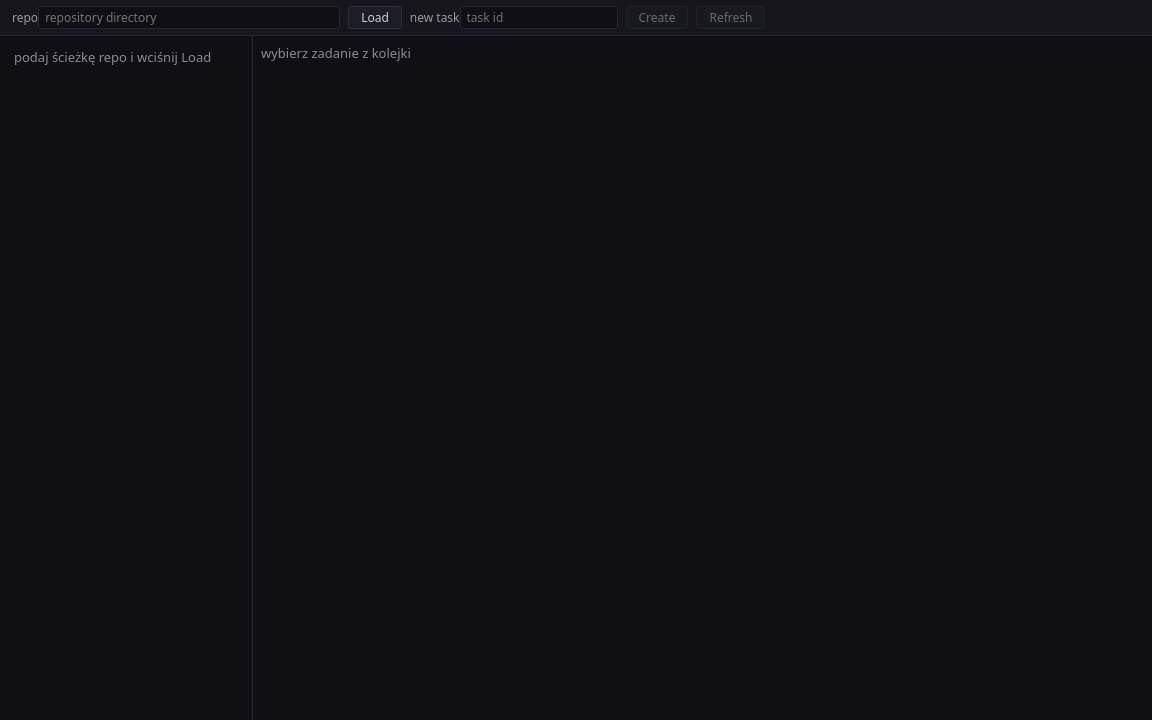
Test: ReviewPanel › no-checkpoints task: no diff rpc, no error, empty diff view
The width and height of the screenshot is (1152, 720).
Type "C:/repo" into the field with test id "review-repo" at coordinates (189, 18), box [38,6,340,29]
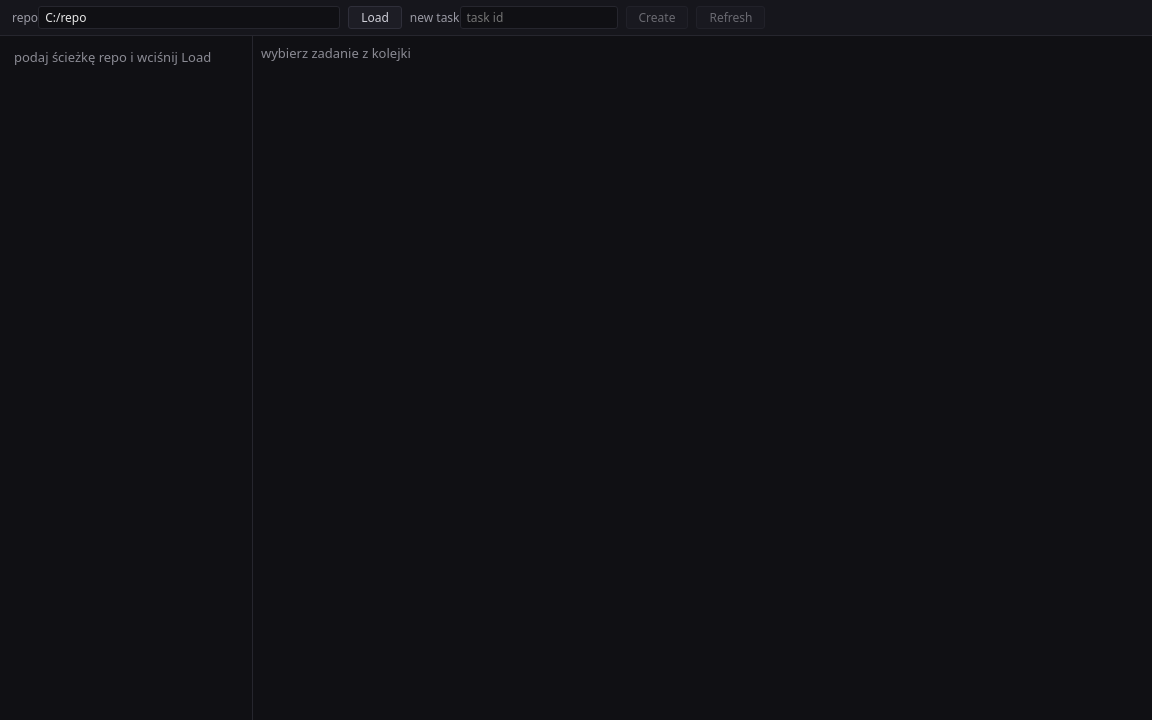
Click the button with test id "review-load" at coordinates (375, 18), box [348,6,402,29]
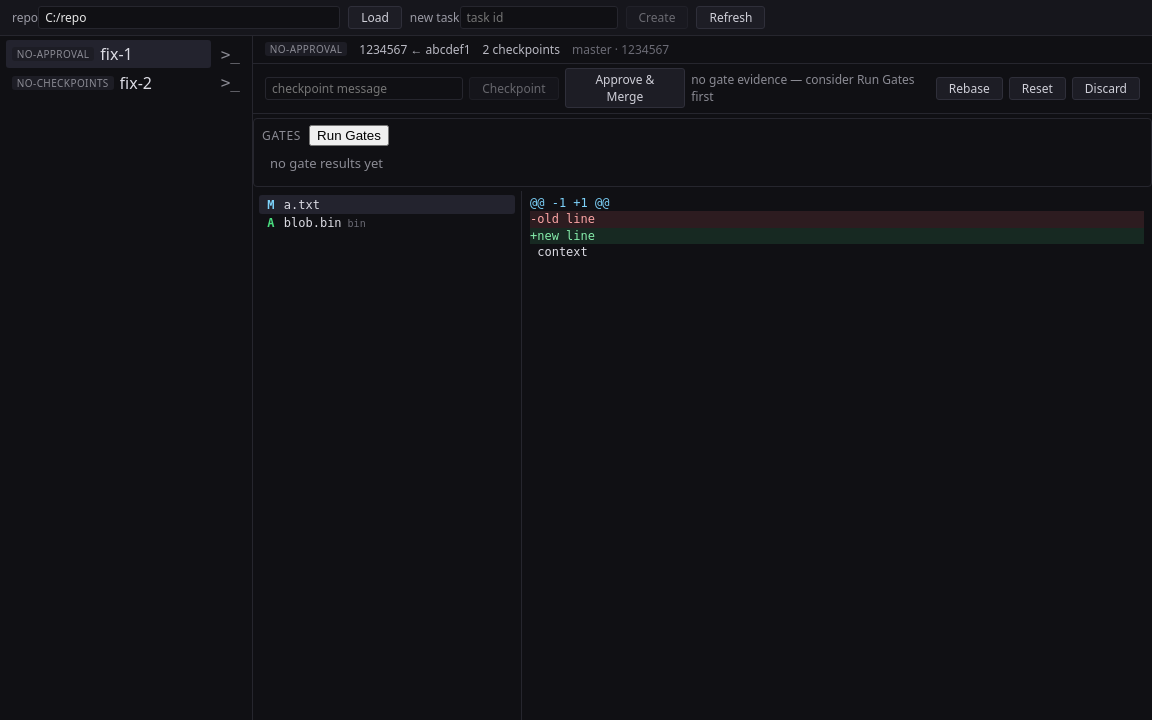
expect the element with test id "review-patch" is shown: met, box [530,196,1144,259]
Click the button with test id "review-task" showing "no-checkpoints fix-2" at coordinates (108, 83), box [6,68,211,97]
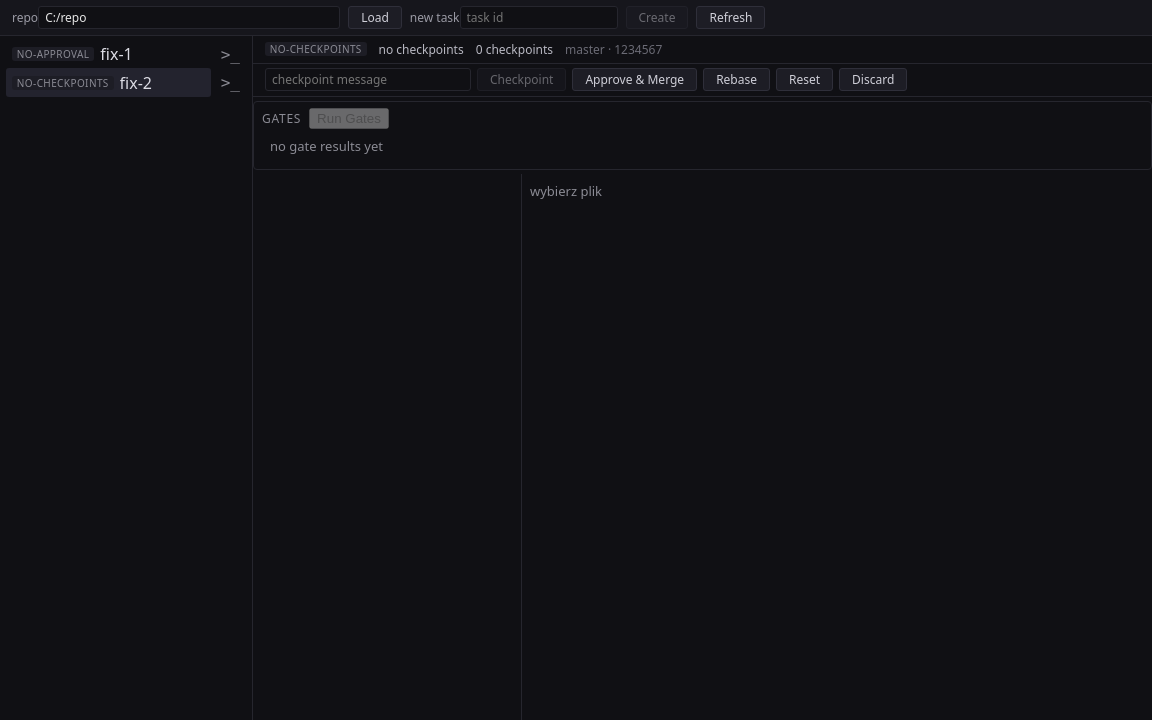
expect the text with test id "review-approval-badge" reads "no-checkpoints": met, box [270,42,362,56]
expect the element with test id "review-patch" is gone: met
expect the button with test id "review-file" is gone: met
